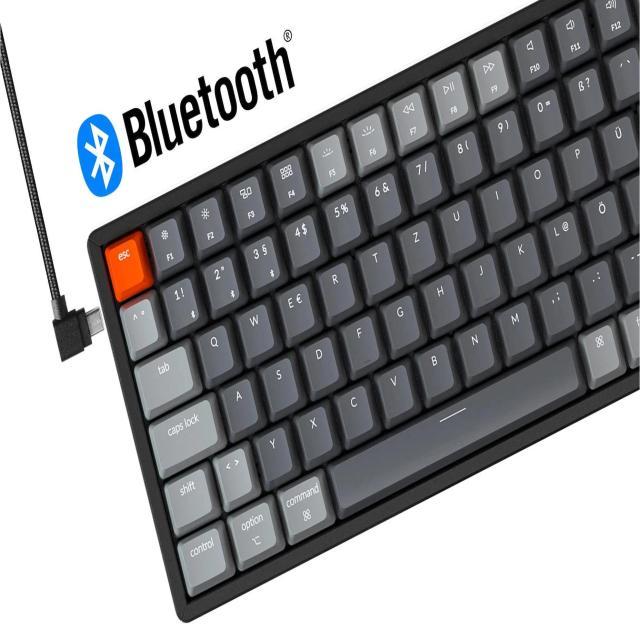0: (527, 85, 565, 144)
1: (163, 274, 199, 331)
2: (202, 253, 241, 312)
3: (243, 229, 282, 291)
4: (283, 210, 321, 268)
5: (323, 188, 361, 248)
6: (363, 167, 402, 227)
7: (405, 148, 442, 206)
8: (445, 126, 483, 185)
9: (486, 105, 525, 165)
a: (221, 373, 259, 435)
accent: (608, 44, 638, 103)
alt-left: (226, 495, 281, 568)
b: (415, 339, 457, 400)
c: (335, 380, 375, 442)
caret: (120, 292, 160, 356)
comma: (536, 277, 576, 338)
d: (300, 330, 340, 395)
e: (276, 277, 316, 340)
f: (340, 310, 380, 373)
g: (382, 288, 421, 353)
h: (421, 268, 462, 332)
i: (478, 173, 518, 235)
j: (461, 247, 502, 311)
k: (503, 226, 543, 290)
keyboard: (83, 1, 639, 629)
l: (543, 205, 583, 270)
less: (212, 443, 256, 506)
m: (496, 297, 536, 361)
n: (455, 318, 496, 380)
o: (519, 152, 559, 215)
oe: (584, 184, 623, 248)
p: (559, 132, 600, 193)
point: (577, 255, 617, 316)
q: (195, 319, 236, 381)
r: (317, 257, 357, 319)
s: (261, 352, 299, 414)
shift-left: (163, 462, 214, 532)
shift-lock: (146, 392, 223, 476)
space: (326, 336, 587, 515)
ss: (566, 62, 605, 122)
strg-left: (177, 522, 230, 595)
t: (358, 237, 396, 297)
tab: (133, 340, 199, 418)
u: (439, 194, 478, 257)
ue: (600, 111, 637, 175)
v: (376, 359, 415, 421)
w: (236, 299, 275, 360)
x: (295, 401, 334, 463)
y: (255, 422, 293, 484)
z: (398, 216, 437, 276)
